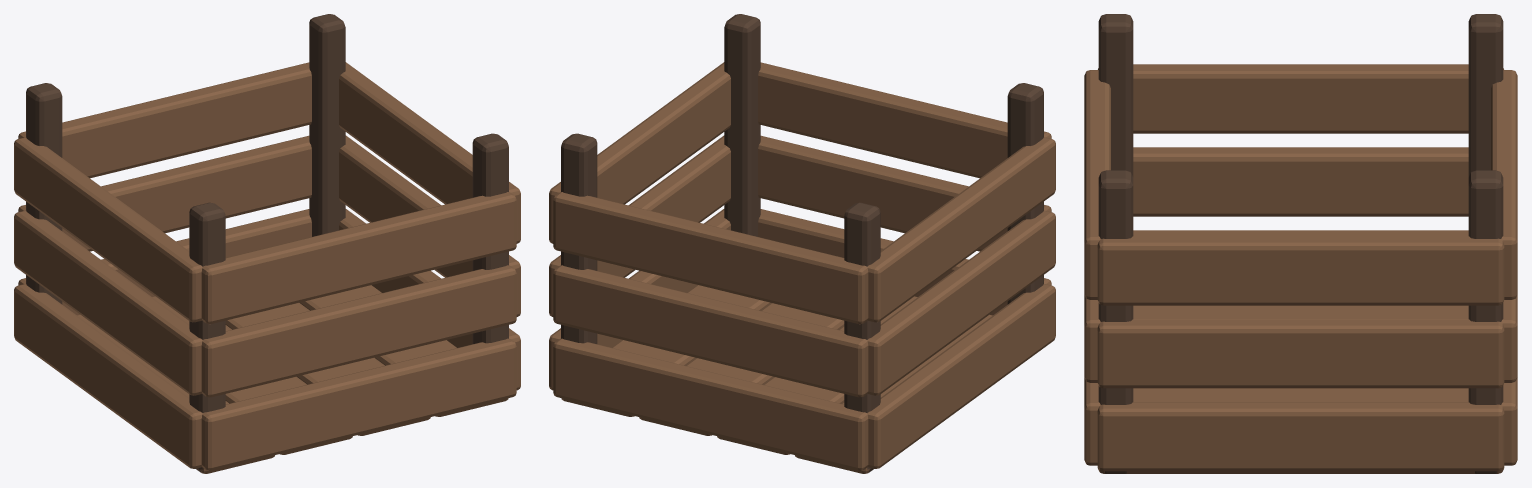
The model's file is prop_crate_wood_a.gltf.
3 views of the same model, side by side, from view 1: azimuth 30°, elevation 25°; view 2: azimuth 150°, elevation 25°; view 3: azimuth 270°, elevation 25° (orthographic). The views are drawn at different scales.
Visible parts, largest first — view 1: prop_crate_wood_a__wood, prop_crate_wood_a__wood_edge; view 2: prop_crate_wood_a__wood, prop_crate_wood_a__wood_edge; view 3: prop_crate_wood_a__wood, prop_crate_wood_a__wood_edge.
Boxes of the visible parts, <box> form: prop_crate_wood_a__wood: <box>14,62,520,473</box>; prop_crate_wood_a__wood_edge: <box>26,14,508,472</box>; prop_crate_wood_a__wood: <box>549,62,1055,473</box>; prop_crate_wood_a__wood_edge: <box>561,14,1043,472</box>; prop_crate_wood_a__wood: <box>1084,64,1517,473</box>; prop_crate_wood_a__wood_edge: <box>1098,14,1503,473</box>.
Size of the model in its own units: 2.13 by 1.6 by 2.13.
